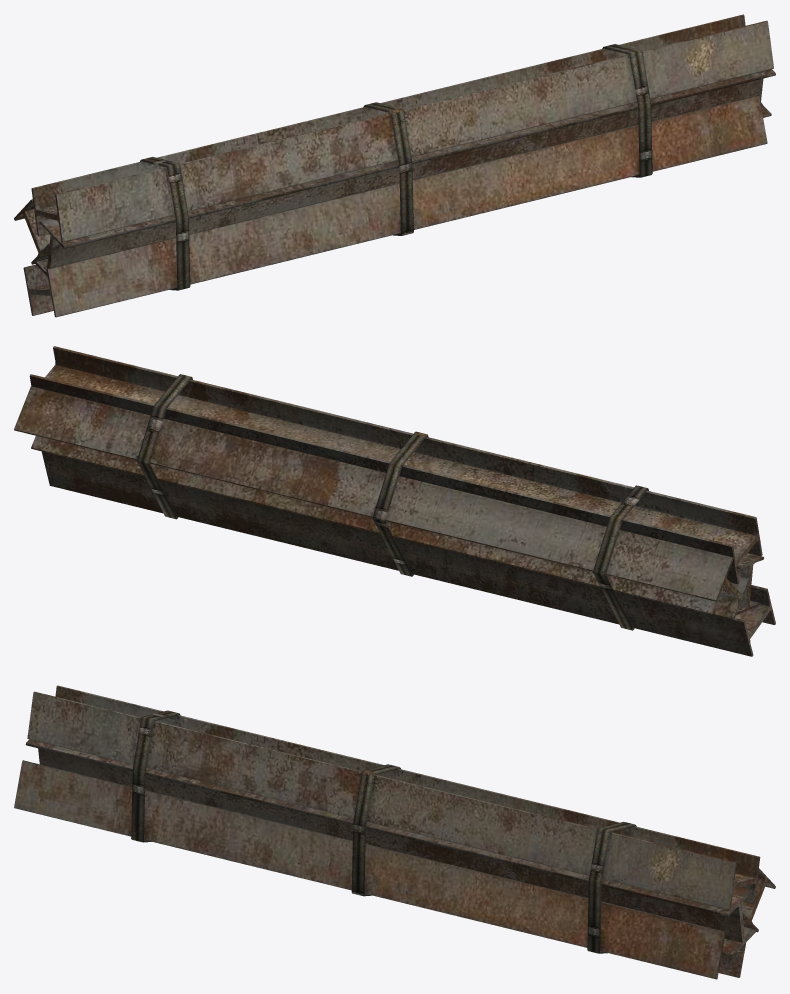
File: iBeam01a_cluster01.glb
3 views of the same model, one above another, from view 1: azimuth 30°, elevation 25°; view 2: azimuth 150°, elevation 25°; view 3: azimuth 330°, elevation 25° (orthographic).
Visible parts, largest first — view 1: 0_i-beam_cluster01; view 2: 0_i-beam_cluster01; view 3: 0_i-beam_cluster01.
Part boxes in pixels (left/top/right/bottom): 0_i-beam_cluster01: left=14, top=14, right=775, bottom=317; 0_i-beam_cluster01: left=14, top=346, right=775, bottom=656; 0_i-beam_cluster01: left=14, top=685, right=775, bottom=979.
Bounding box in the file's own units: 5.09 × 0.9014 × 0.6667.
Materials: 1 (1 with a texture image).
